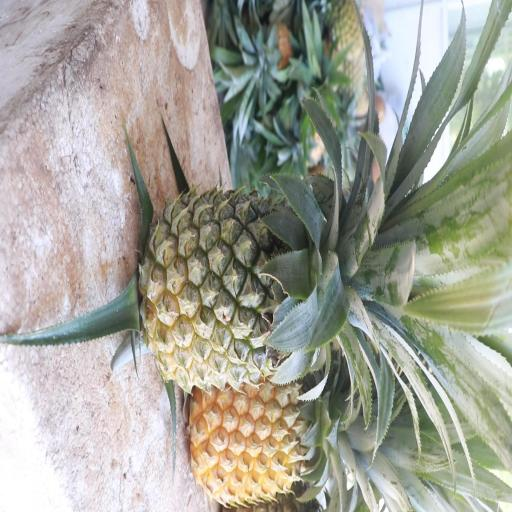------------------------------: (144, 182, 355, 388)
Pineapple - v8 v1: (187, 378, 327, 502)
